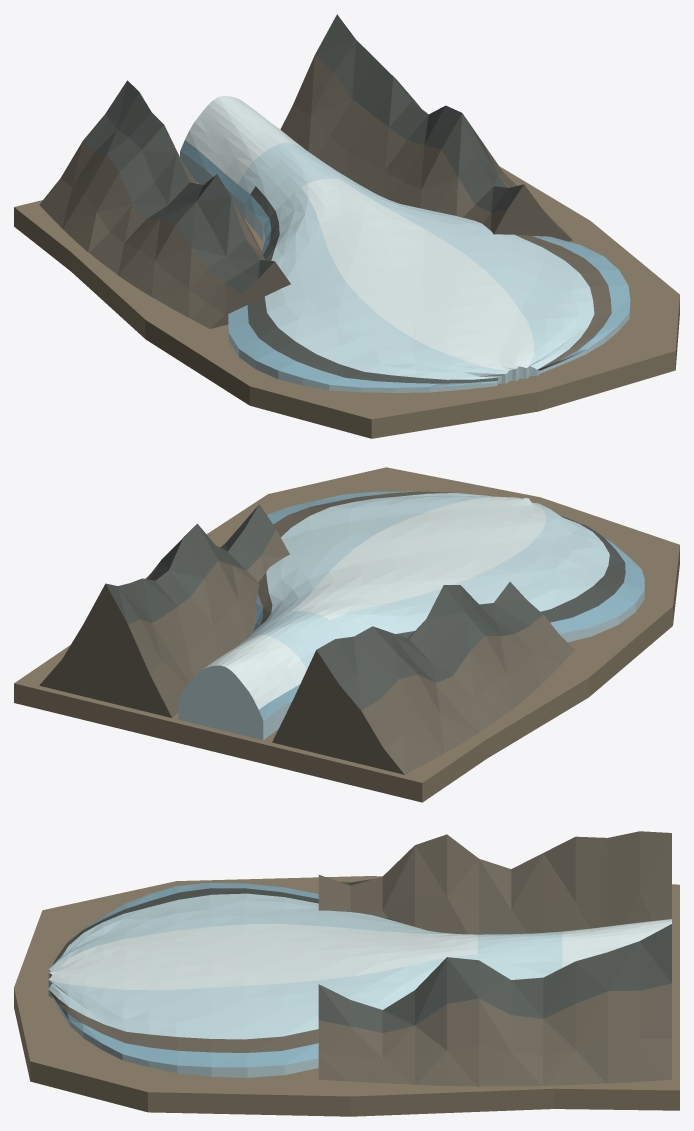
The model's file is piedmont-glacier.glb.
The picture shows the model from 3 angles, top to bottom: view 1: azimuth 30°, elevation 25°; view 2: azimuth 150°, elevation 25°; view 3: azimuth 270°, elevation 25°; orthographic projection. The views are drawn at different scales.
Parts seen in each view (by area): view 1: continuous-throat-spreading-lobe, foreland-substrate, west-mountain-shoulder, east-mountain-shoulder; view 2: continuous-throat-spreading-lobe, west-mountain-shoulder, foreland-substrate, east-mountain-shoulder; view 3: continuous-throat-spreading-lobe, east-mountain-shoulder, foreland-substrate, west-mountain-shoulder.
Part boxes in pixels (<box>): continuous-throat-spreading-lobe: <box>180,96,630,392</box>; foreland-substrate: <box>14,109,679,438</box>; west-mountain-shoulder: <box>39,80,290,328</box>; east-mountain-shoulder: <box>280,14,572,241</box>; continuous-throat-spreading-lobe: <box>178,491,644,740</box>; west-mountain-shoulder: <box>272,582,575,774</box>; foreland-substrate: <box>14,467,679,802</box>; east-mountain-shoulder: <box>39,504,289,717</box>; continuous-throat-spreading-lobe: <box>48,883,671,1077</box>; east-mountain-shoulder: <box>318,924,671,1086</box>; foreland-substrate: <box>14,876,679,1116</box>; west-mountain-shoulder: <box>318,831,671,934</box>.
Bounding box in the file's own units: 1285 × 388 × 1640.
